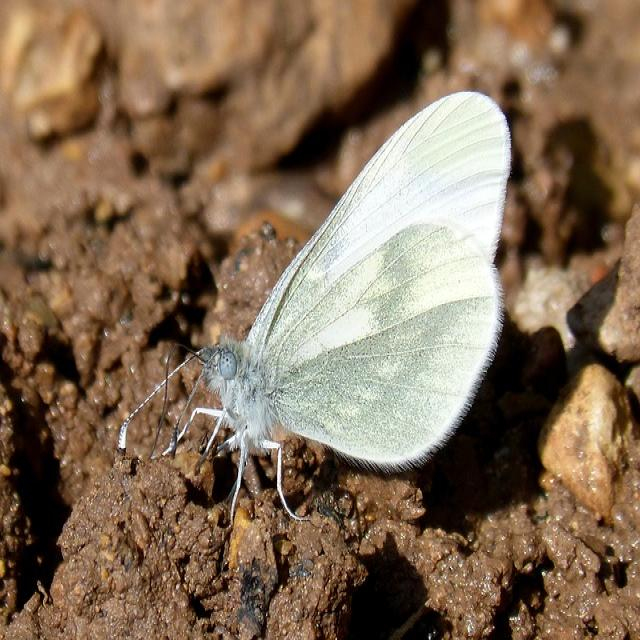butterfly: (194, 91, 513, 476)
